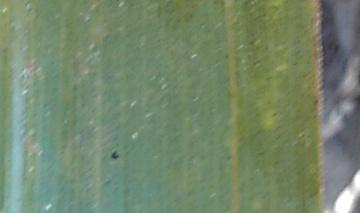tarspot: (109, 150, 120, 161), (224, 153, 235, 162), (270, 110, 278, 119), (312, 97, 319, 106), (248, 39, 254, 46)
